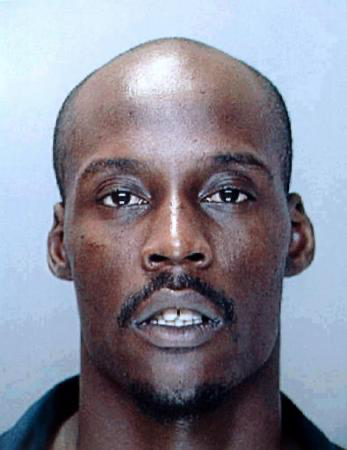Face: (50, 120, 291, 403)
